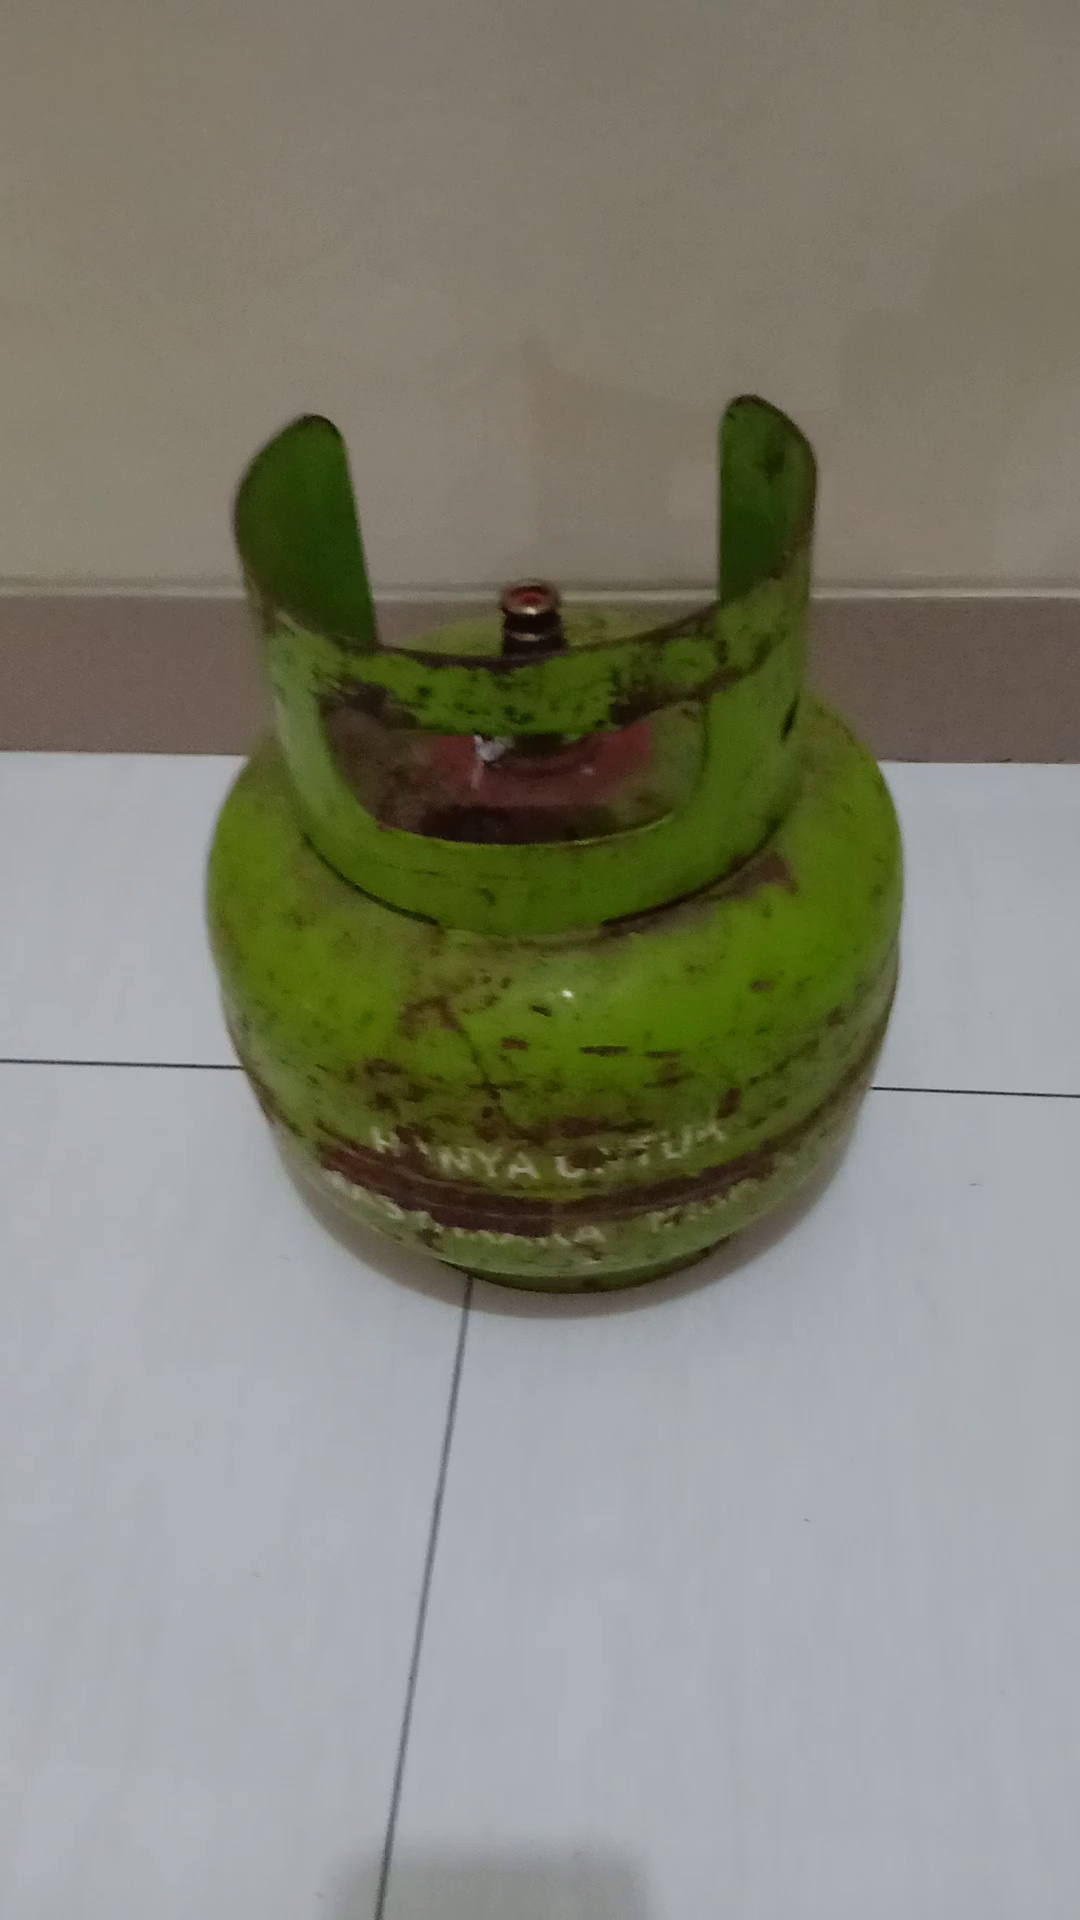gas_ijo: (198, 396, 905, 1304)
